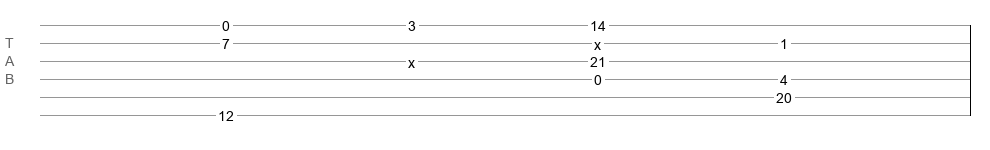0: (222, 18, 230, 28), (594, 72, 602, 82)
1: (780, 36, 788, 46)
12: (218, 108, 234, 118)
14: (590, 18, 606, 28)
20: (776, 90, 792, 100)
21: (590, 54, 606, 64)
3: (408, 18, 416, 28)
4: (780, 72, 788, 82)
7: (222, 36, 230, 46)
x: (408, 55, 415, 63), (594, 37, 601, 45)
